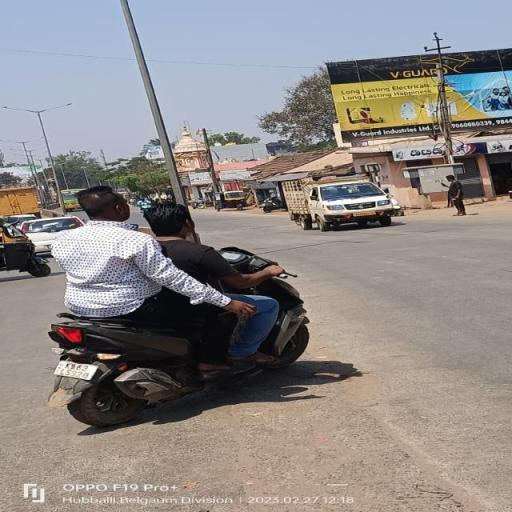bike: (27, 184, 312, 417)
numberplate: (56, 358, 98, 386)
withouthelmet: (146, 203, 190, 235), (79, 188, 123, 218)
